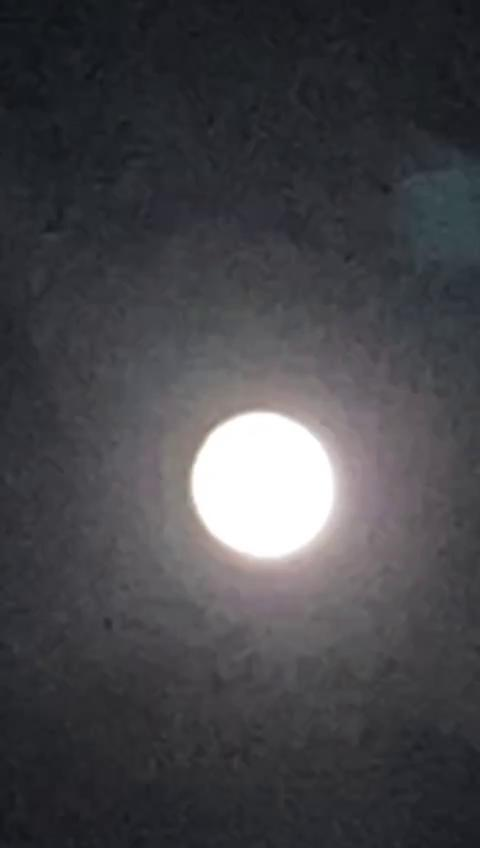moon: (152, 365, 324, 556)
